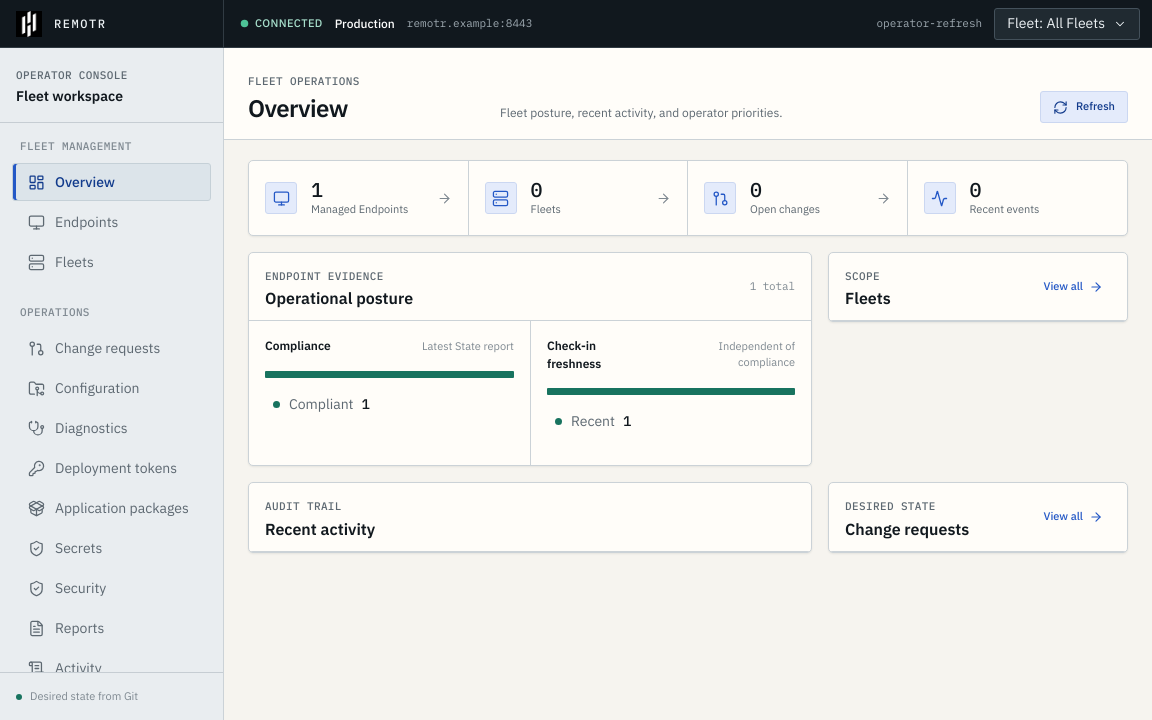
Test: workspace refresh › pauses polling while hidden and refreshes once immediately on resume
Click the button "Endpoints". click: coordinates (112, 222)
box: [12,203,211,241]
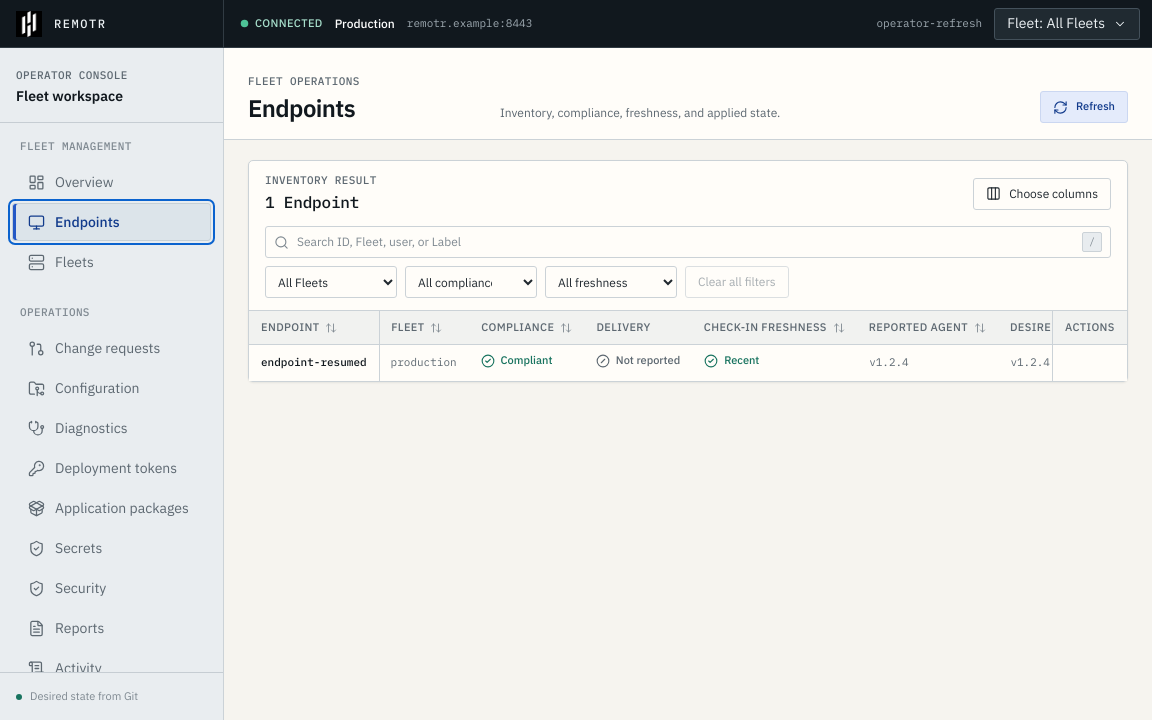
Now the text "endpoint-resumed" is shown, box [249,345,379,381]
